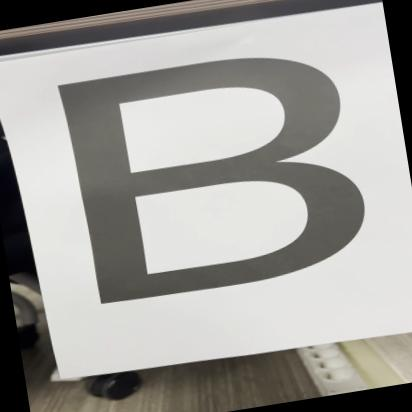seat: (29, 21, 395, 324)
